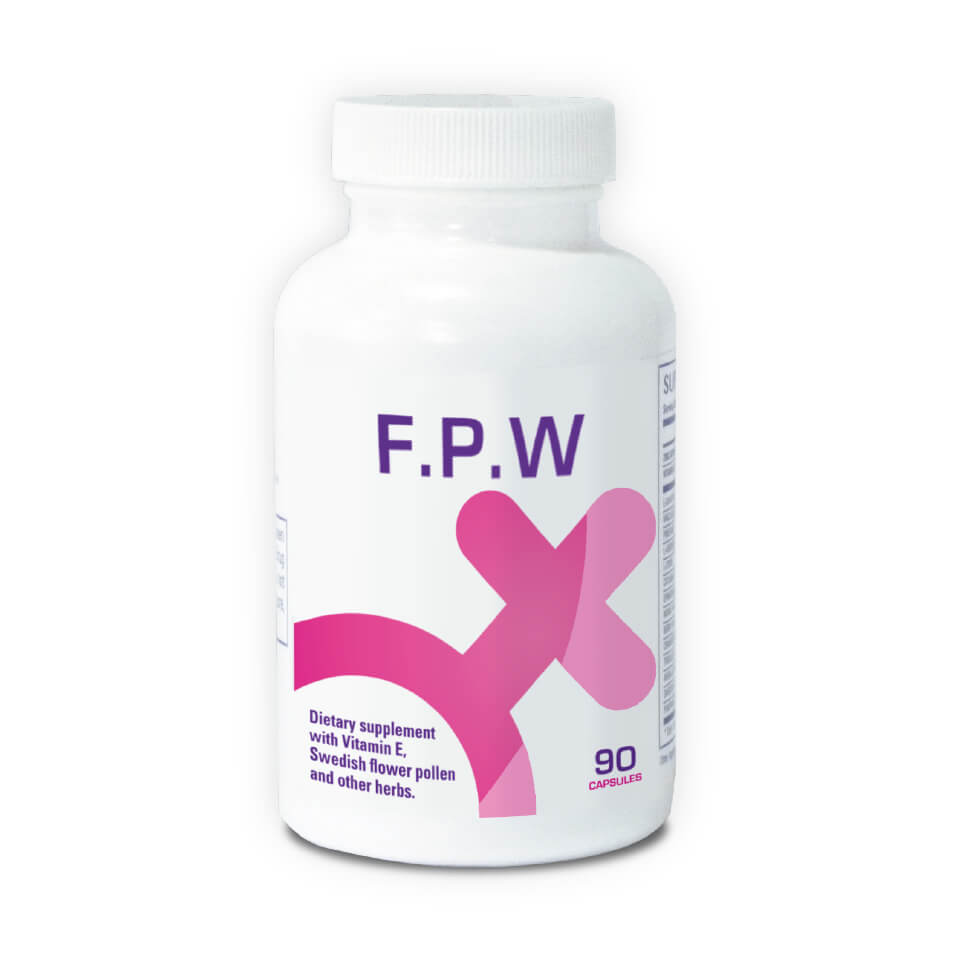Medicine: (247, 65, 712, 880)
